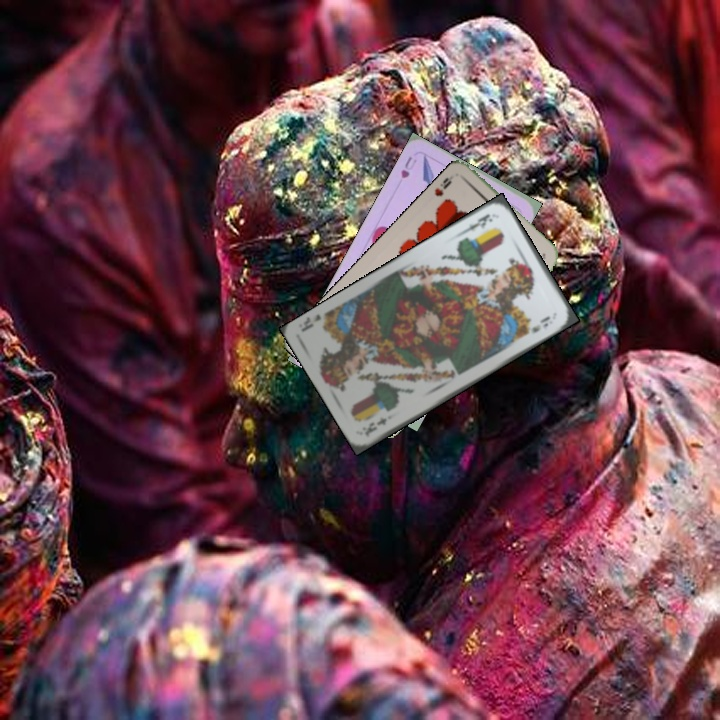EK: (459, 210, 495, 236), (361, 413, 390, 440)
H9: (430, 173, 454, 199)
HU: (397, 152, 419, 181)
